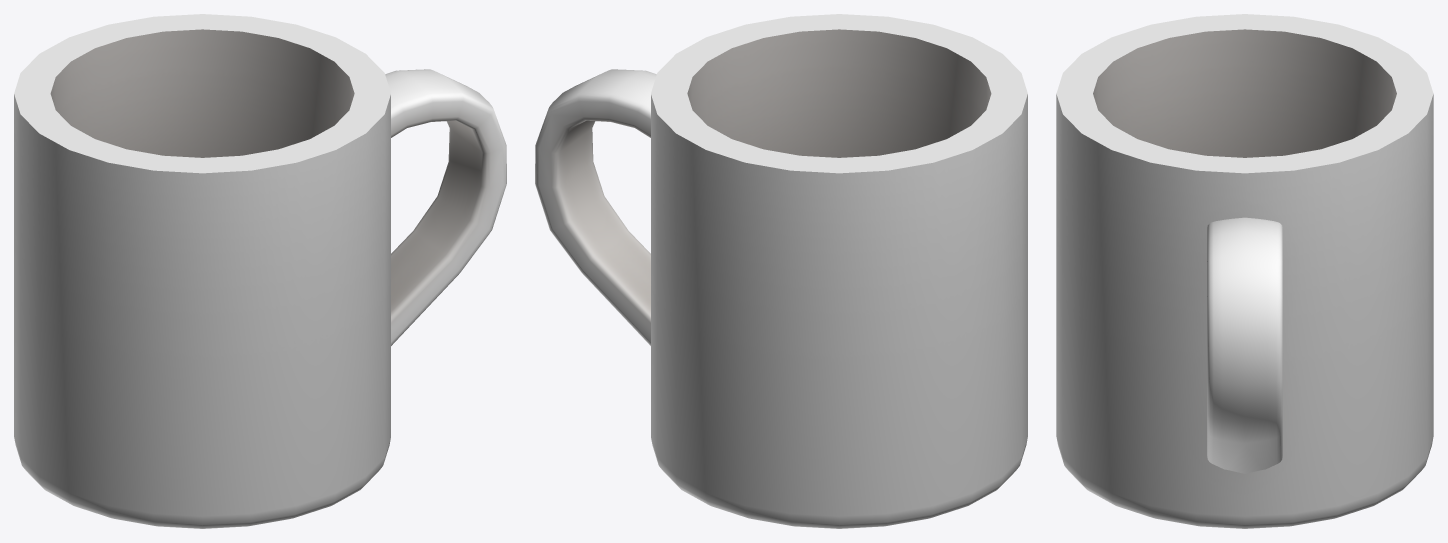
The model's file is KTB0110001.fbx.
3 renders of one model, left to right at view 1: azimuth 30°, elevation 25°; view 2: azimuth 150°, elevation 25°; view 3: azimuth 270°, elevation 25°, orthographic.
Visible parts, largest first — view 1: smKTB0110001; view 2: smKTB0110001; view 3: smKTB0110001.
Part boxes in pixels (x1,y1,x2,y2): smKTB0110001: (14, 14, 506, 528); smKTB0110001: (535, 14, 1027, 528); smKTB0110001: (1056, 14, 1433, 528).
Bounding box in the file's own units: 9.84 × 7.52 × 7.08.
1 material, 1 textured.
